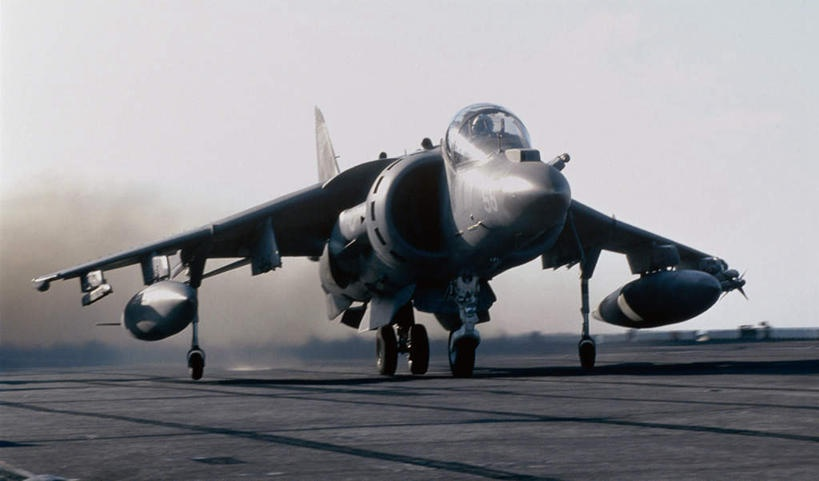airplane: (23, 98, 745, 388)
